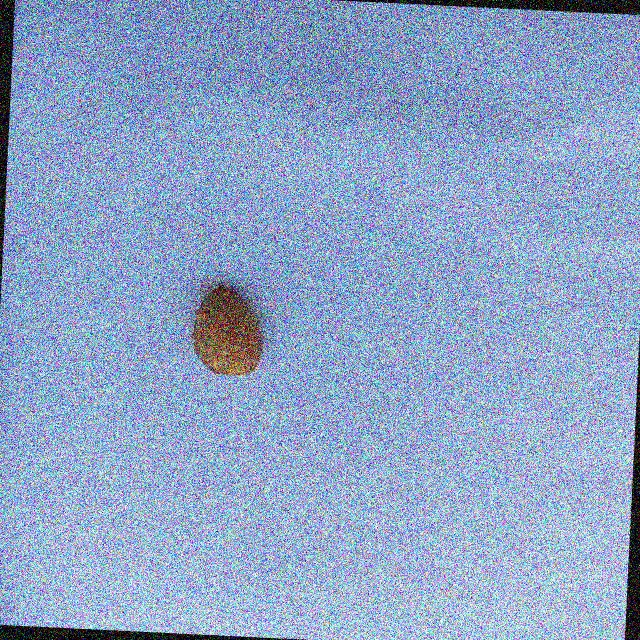grade2: (188, 281, 272, 381)
